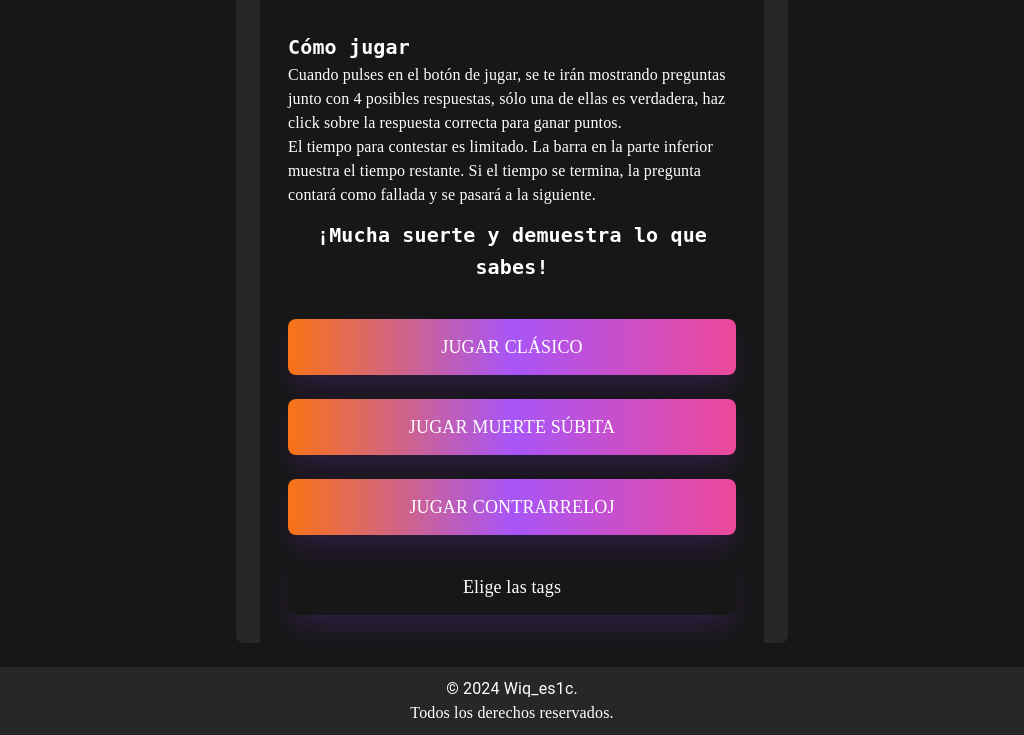
Test: Home component › renders tag modal
(page scrolled)
Click the button "Elige las tags" at (512, 587), box top-left (288, 559), bottom-right (736, 615)
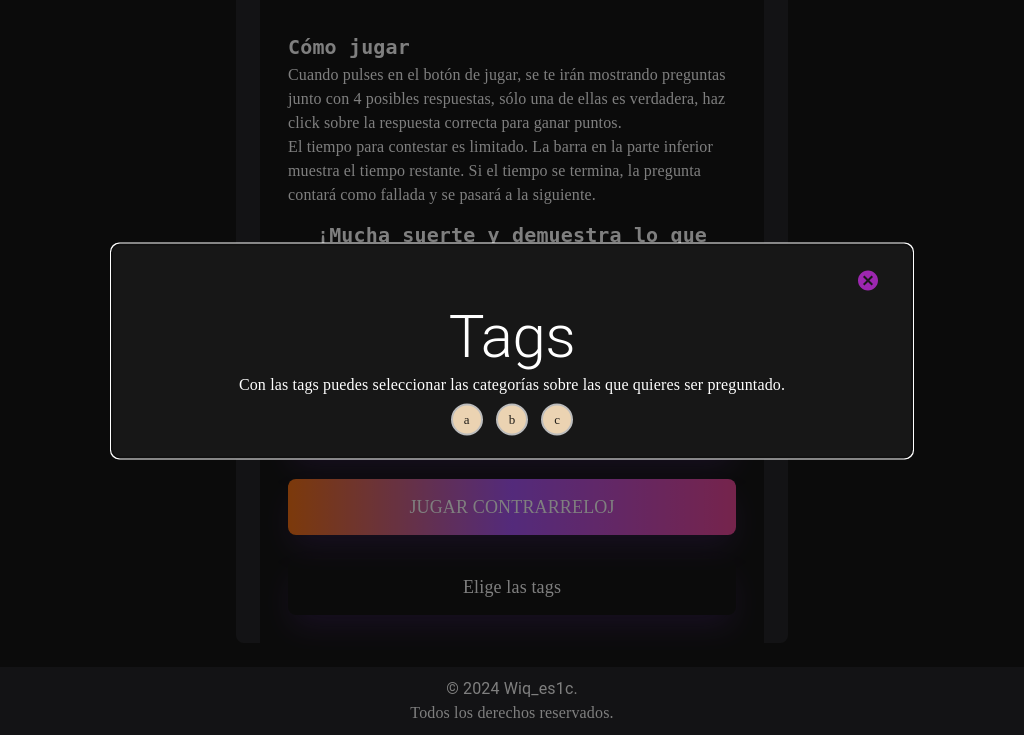
Expected: the element with test id "tag-selection" is shown, top-left (112, 244), bottom-right (912, 458)
